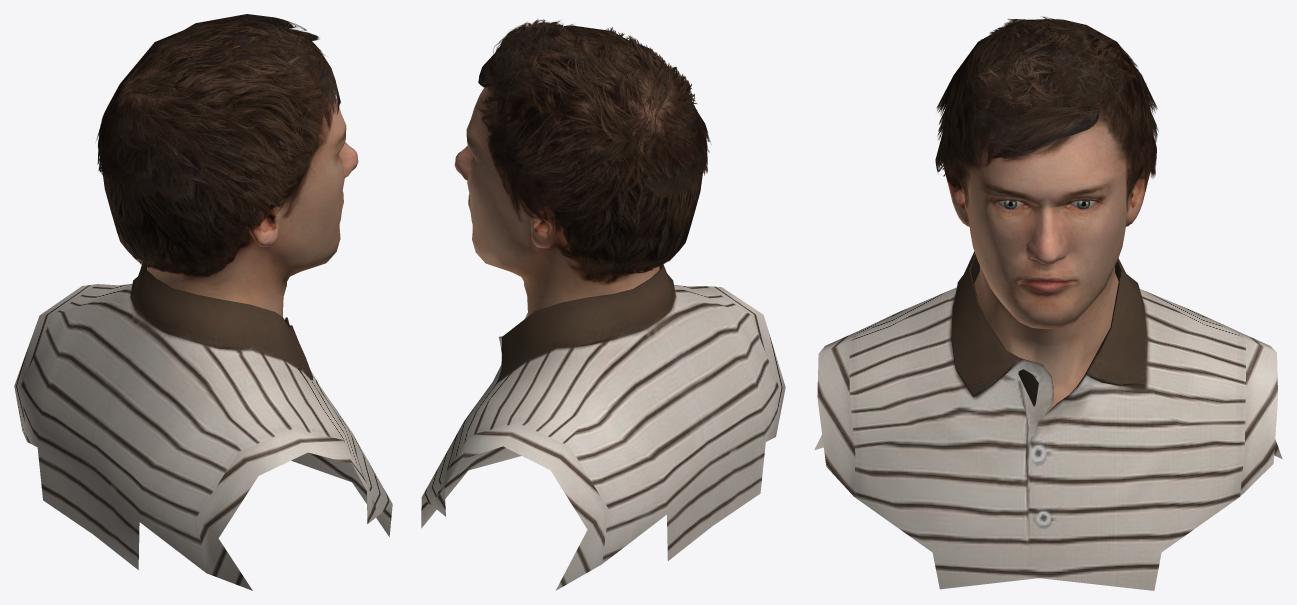
File: head.glb
3 renders of one model, left to right at view 1: azimuth 30°, elevation 25°; view 2: azimuth 150°, elevation 25°; view 3: azimuth 270°, elevation 25°, orthographic. The views are drawn at different scales.
Parts seen in each view (by area): view 1: HeadMesh; view 2: HeadMesh; view 3: HeadMesh.
Boxes of the visible parts, x1=… form: HeadMesh: x1=14, y1=14, x2=392, y2=590; HeadMesh: x1=421, y1=19, x2=785, y2=590; HeadMesh: x1=814, y1=16, x2=1282, y2=590.
Bounding box in the file's own units: 29.22 × 52.14 × 43.38.
Materials: 5 (5 with a texture image).
